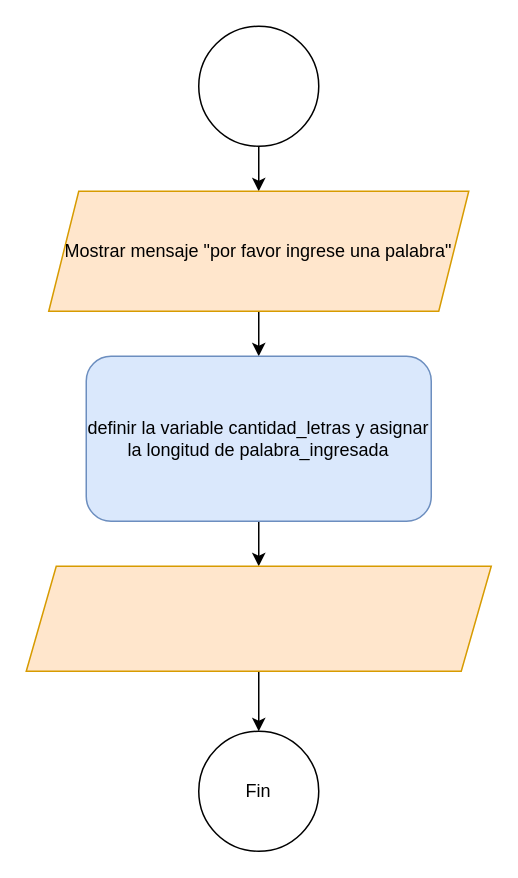
Image size: 518x878. Some labels were removed from this diagram. The centre of each missing label's shape, as x and y in pixels:
Inicio: (258,85)
mostrar mensaje: "la palabre tiene", cantidad_letras,"letras": (258,618)
